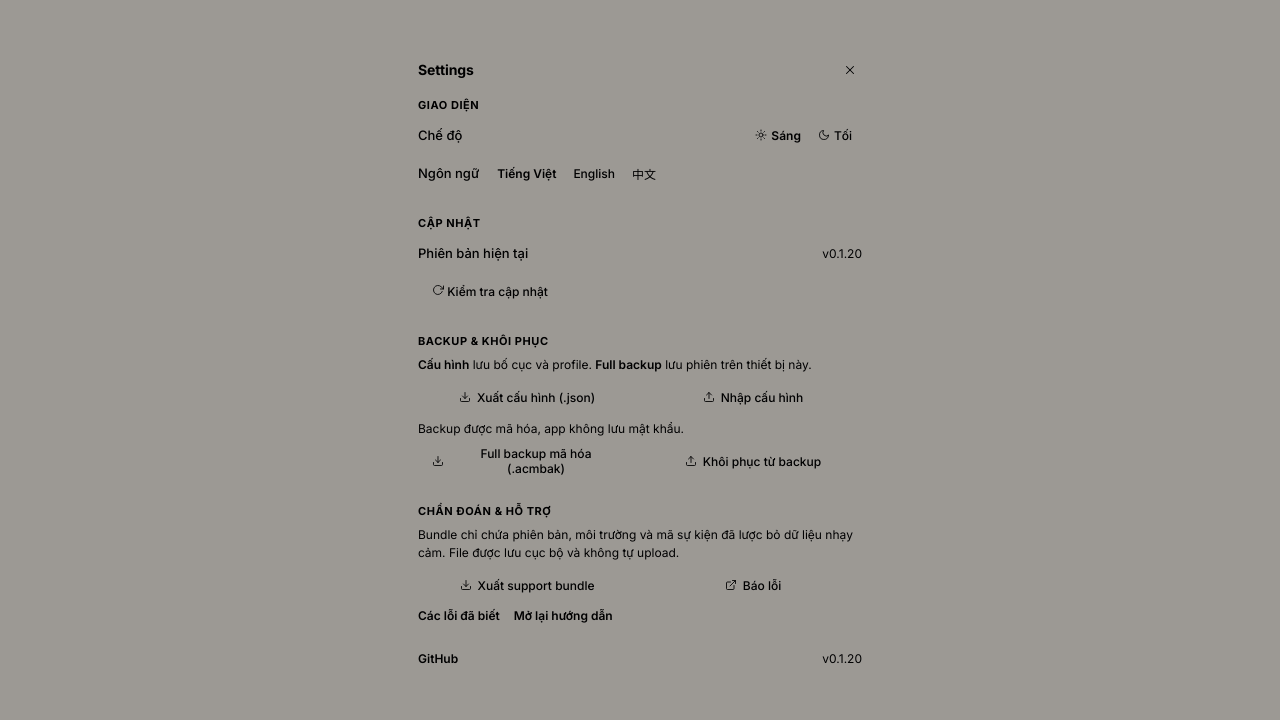
Test: SettingsModal › opens the encrypted backup password form in Tauri runtime
The image size is (1280, 720).
Expected: the button "Khôi phục từ backup" is enabled, [644, 446, 862, 476]
Click the button "Full backup mã hóa (.acmbak)".
click(527, 461)  # box [418, 446, 636, 476]
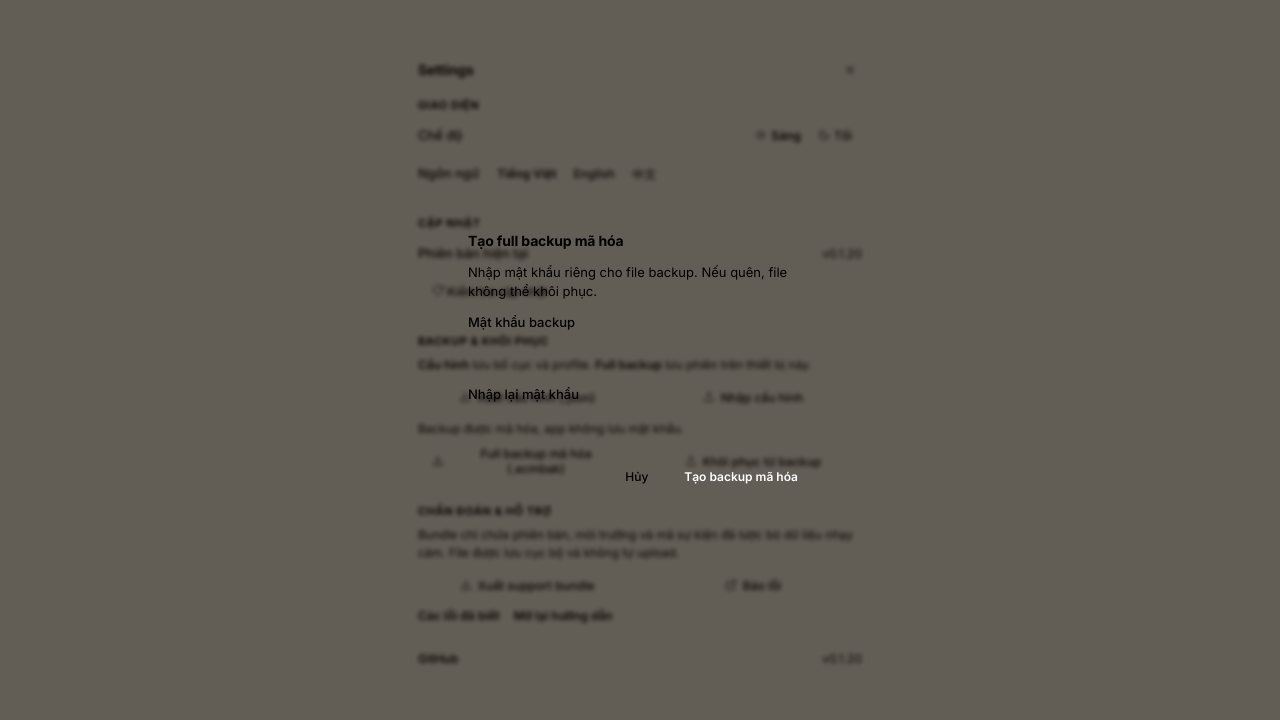
Expected: the heading "Tạo full backup mã hóa" is shown, [468, 232, 624, 249]
Expected: the number of password fields labelled "Mật khẩu backup" is 2, [468, 342, 812, 374]; [468, 414, 812, 446]
